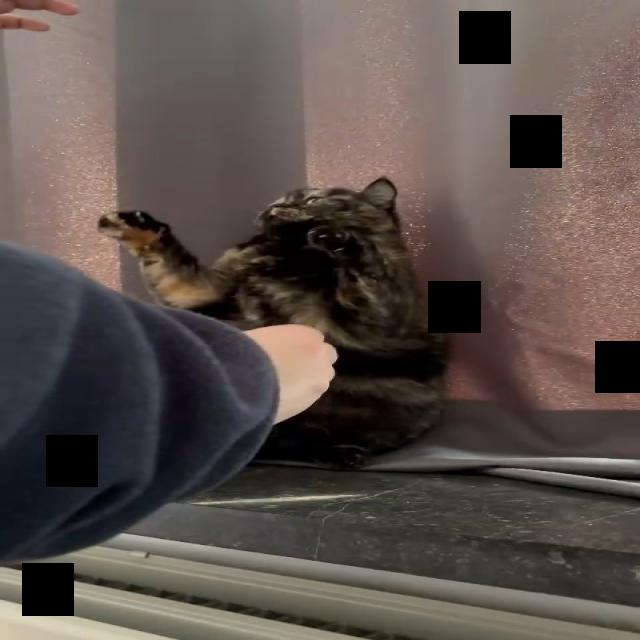authorized: (96, 175, 452, 470)
